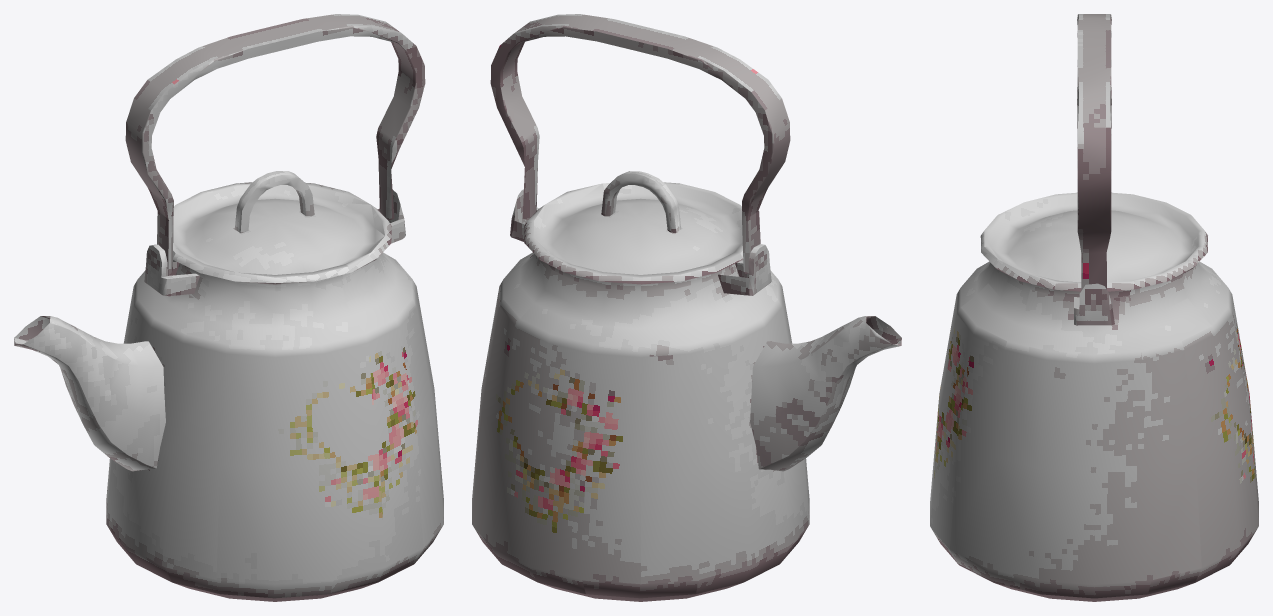
File: teapot_enamel.glb
3 renders of one model, left to right at view 1: azimuth 30°, elevation 25°; view 2: azimuth 150°, elevation 25°; view 3: azimuth 270°, elevation 25°, orthographic. The views are drawn at different scales.
Visible parts, largest first — view 1: mesh; view 2: mesh; view 3: mesh.
Boxes of the visible parts, <box> form: mesh: <box>14,14,443,601</box>; mesh: <box>472,14,901,601</box>; mesh: <box>930,14,1258,601</box>.
Bounding box in the file's own units: 0.1644 × 0.2 × 0.1174.
Materials: 1 (1 with a texture image).
